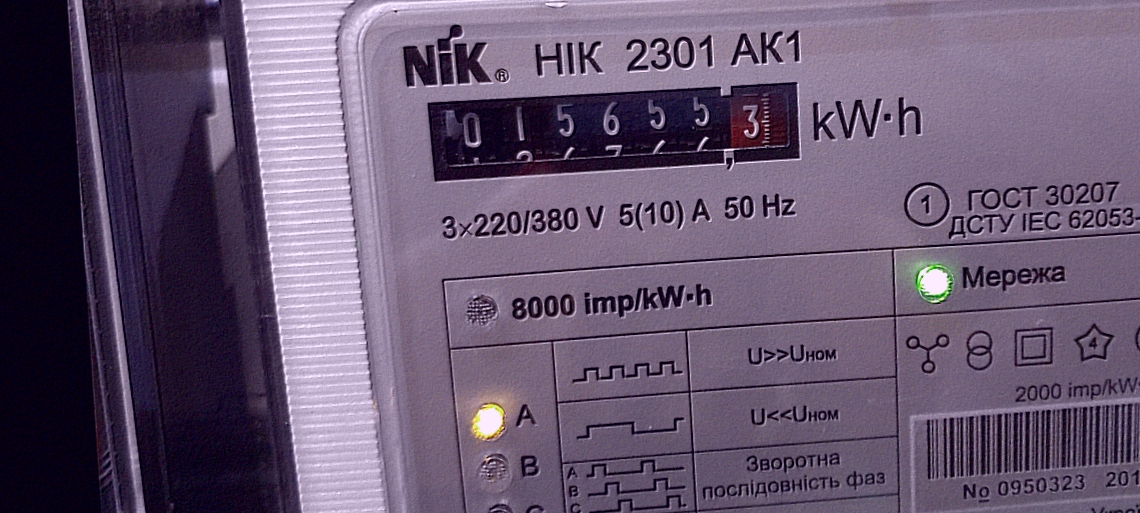0: (458, 108, 485, 151)
1: (510, 104, 531, 144)
3: (740, 103, 761, 140)
5: (552, 102, 578, 139), (644, 98, 669, 131), (691, 95, 712, 129)
6: (599, 100, 624, 138)
screen: (412, 62, 817, 199)
